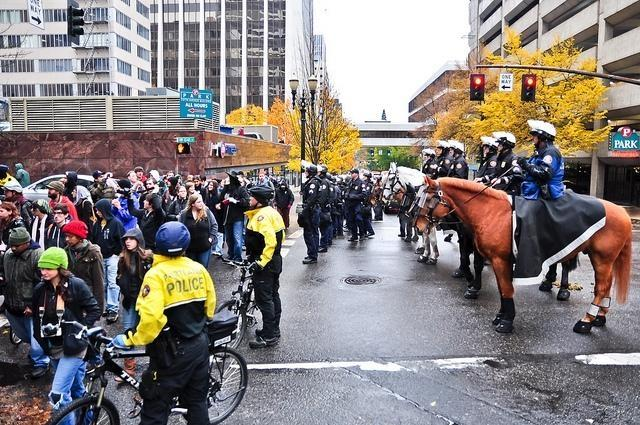bicycle: (45, 312, 242, 425), (213, 254, 257, 348), (10, 326, 23, 346)
